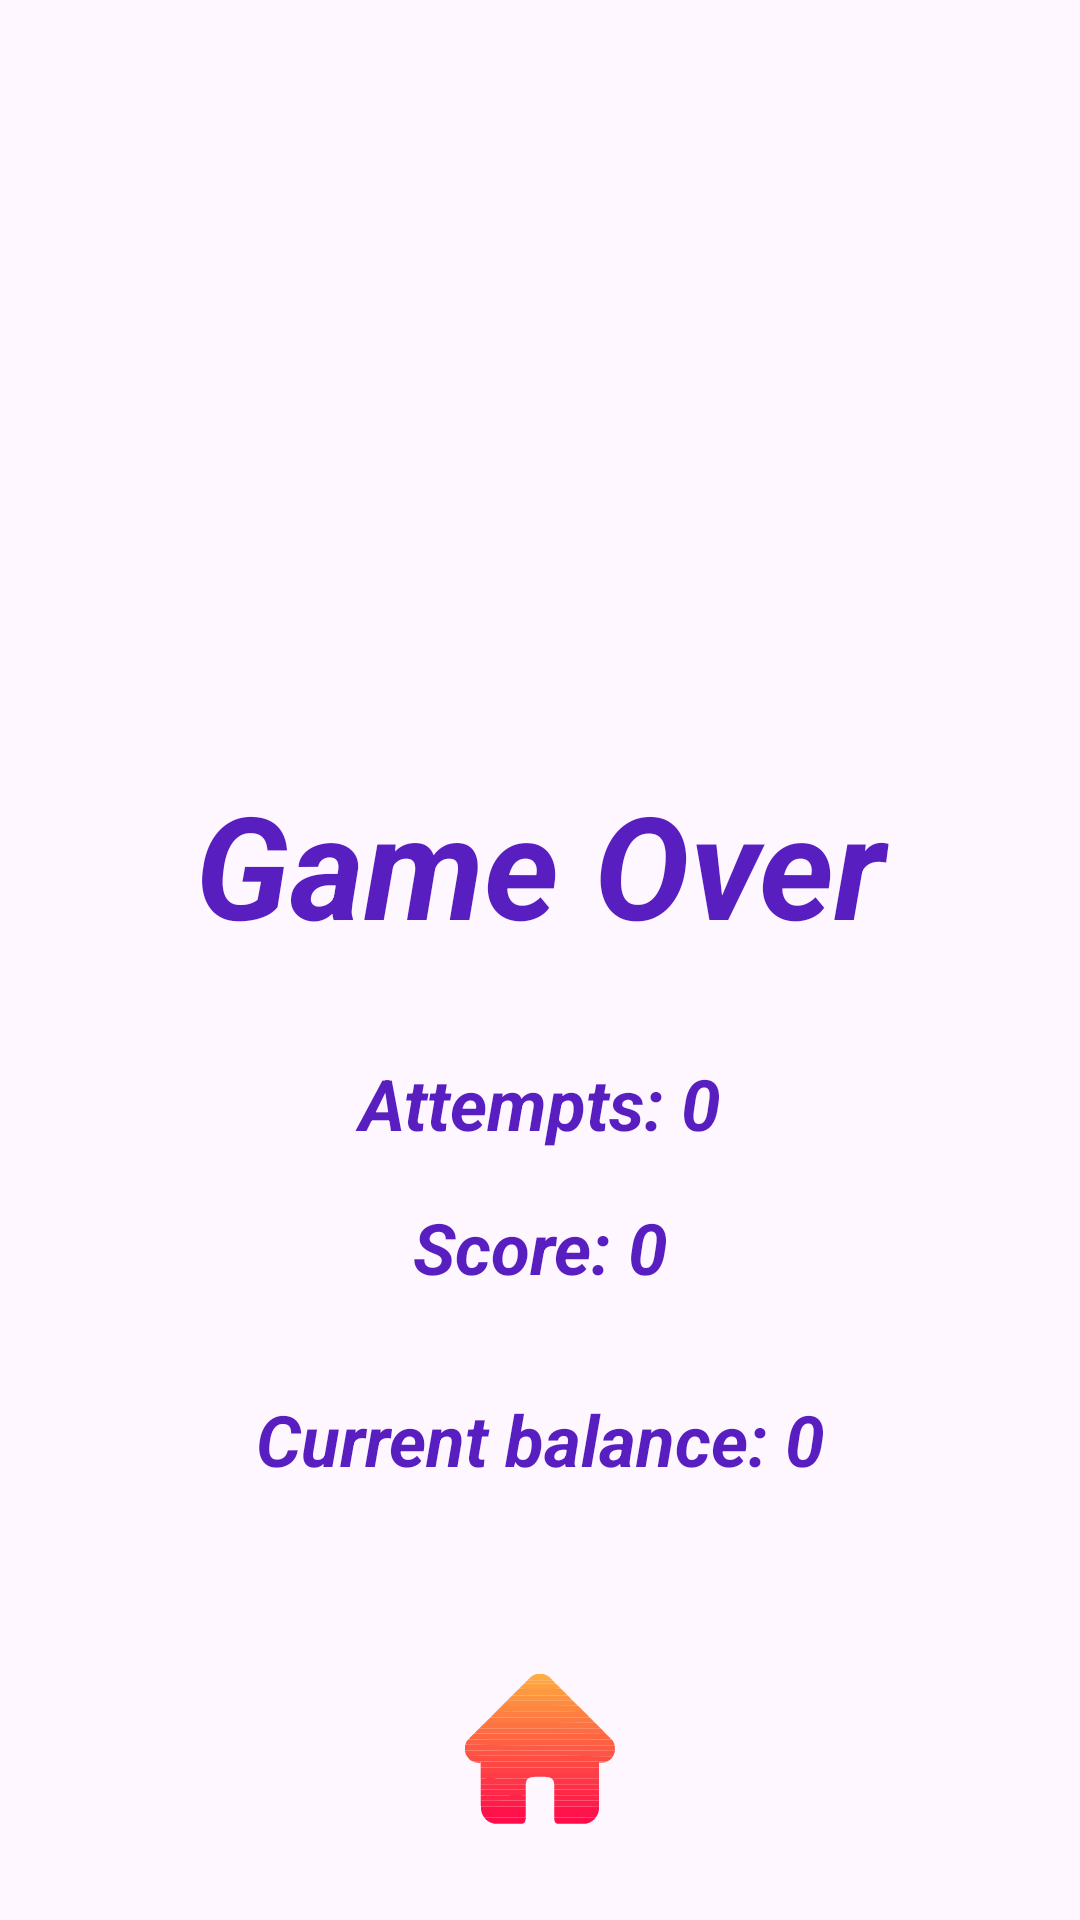

Locate icon controls on the screen. Image size 1080px x 1920px, boxes as (x1, y1, x2, y2).
home: (465, 1674, 615, 1824)
